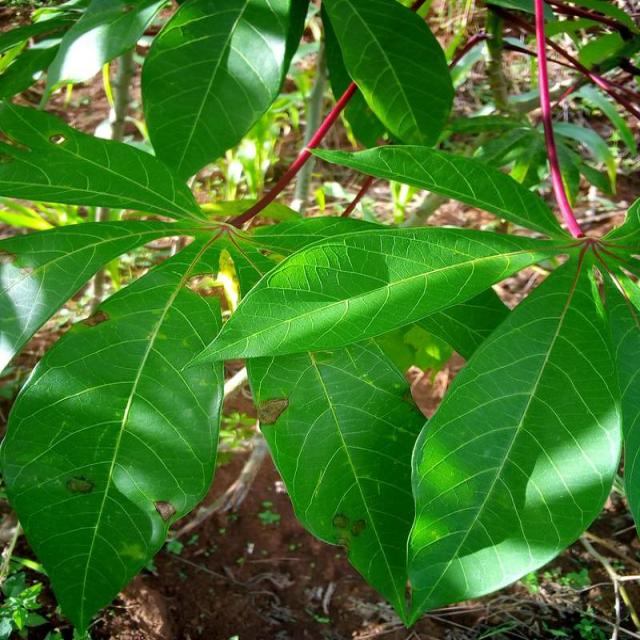cassava leaf: (405, 244, 623, 625), (0, 278, 225, 636), (139, 0, 308, 183), (319, 0, 454, 148)
